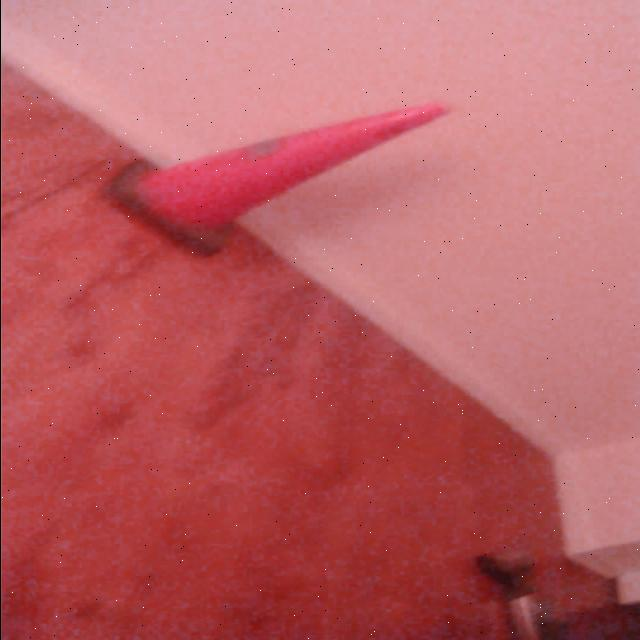traffic cone: (102, 99, 459, 260)
